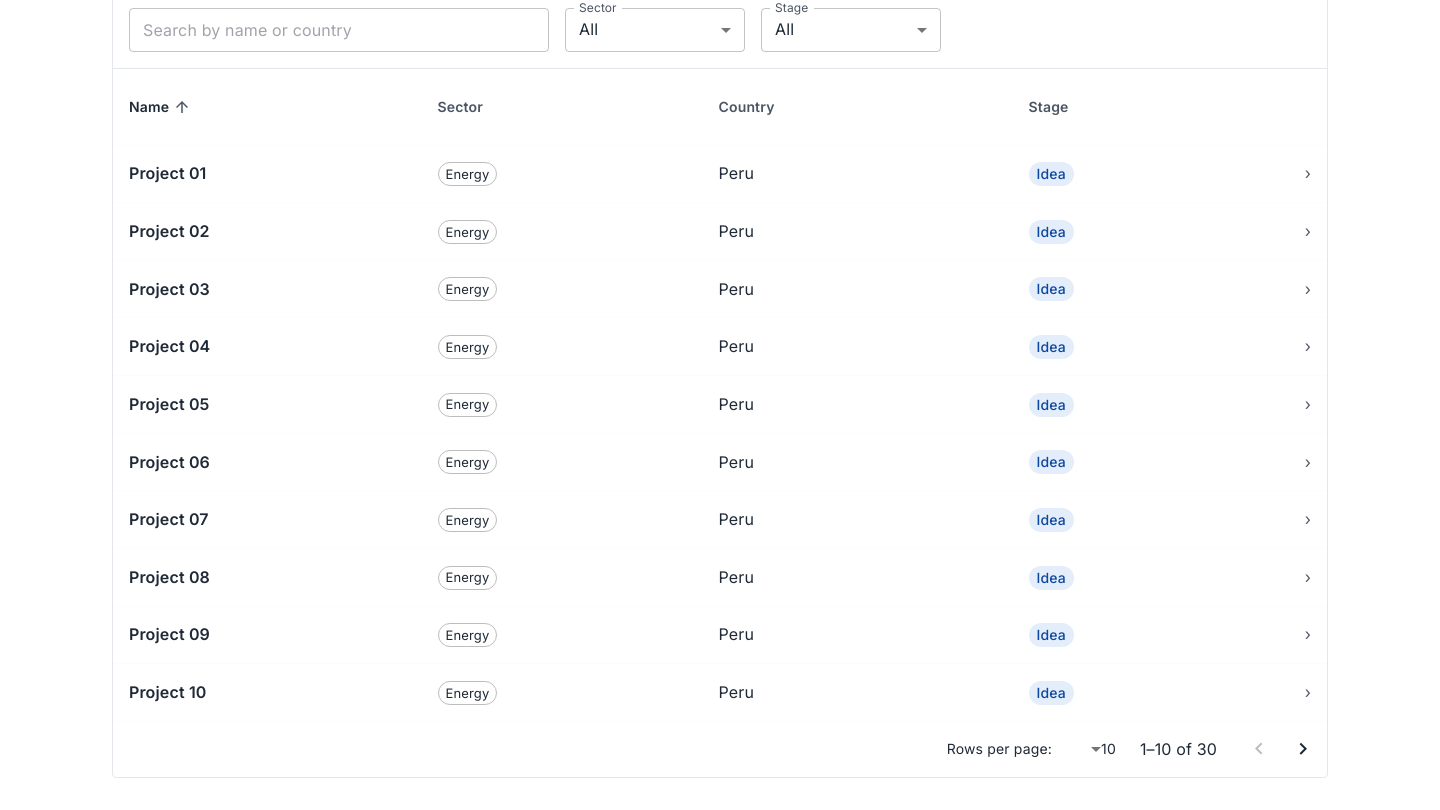
Test: ProjectList › paginates 10 per page by default with the footer text for 30 rows
(page scrolled)
Check: the link "Project 01" is shown, box [129,164,206,184]
Check: the text "1–10 of 30" is shown, box [1140,738,1217,761]
Click the button named "next page": click(1303, 749) [1281,727,1325,771]
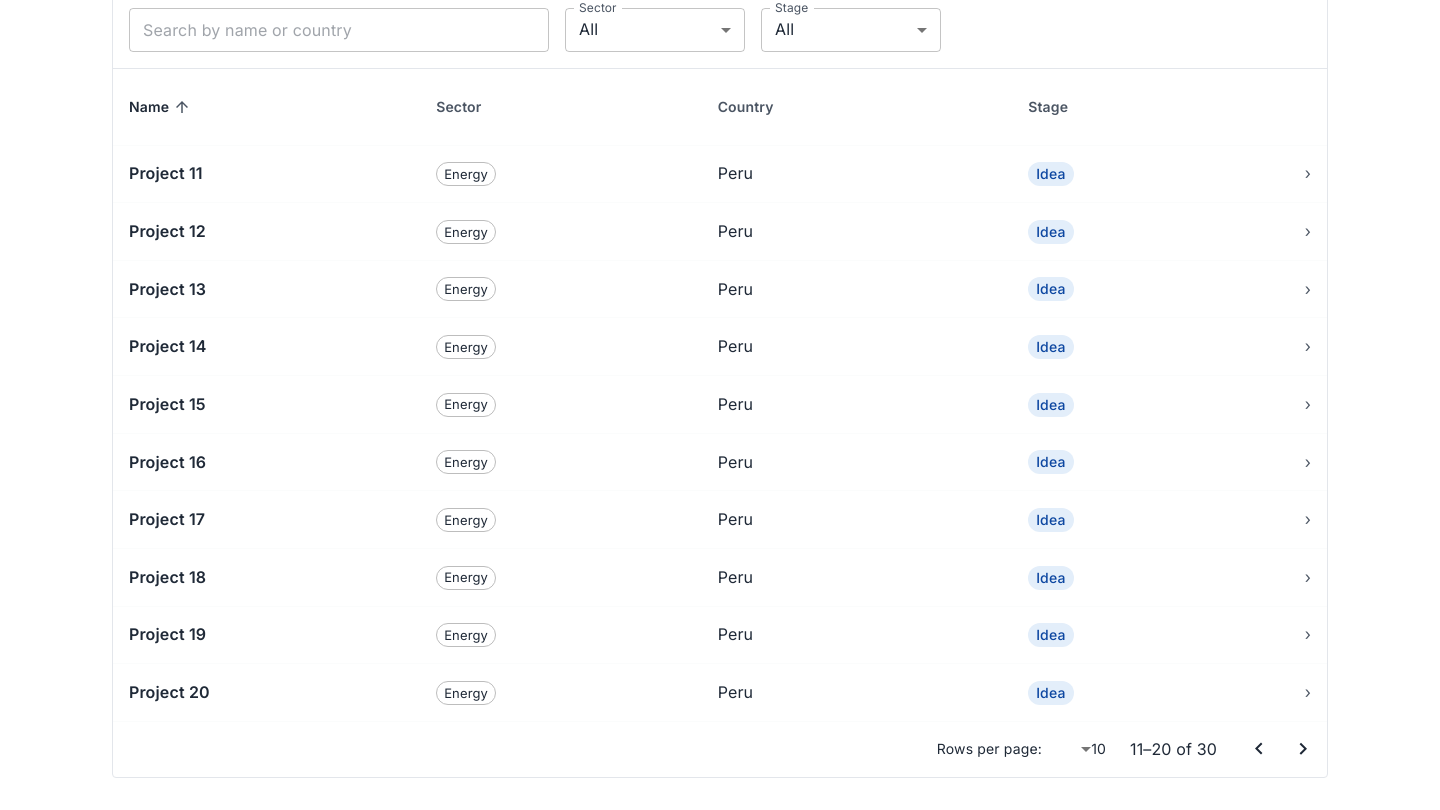
Check: the text "11–20 of 30" is shown, box [1130,738,1217,761]
